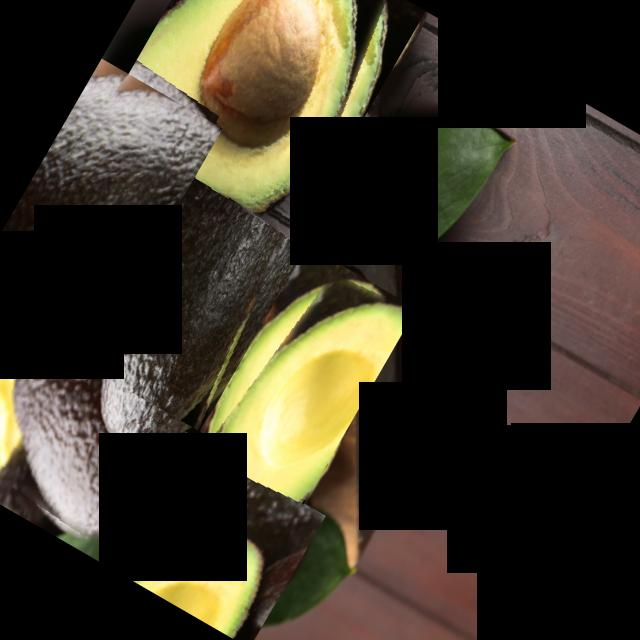avocado: (49, 34, 393, 490), (144, 245, 416, 590), (97, 0, 425, 240), (0, 58, 222, 368), (0, 329, 212, 573), (102, 431, 326, 640)
